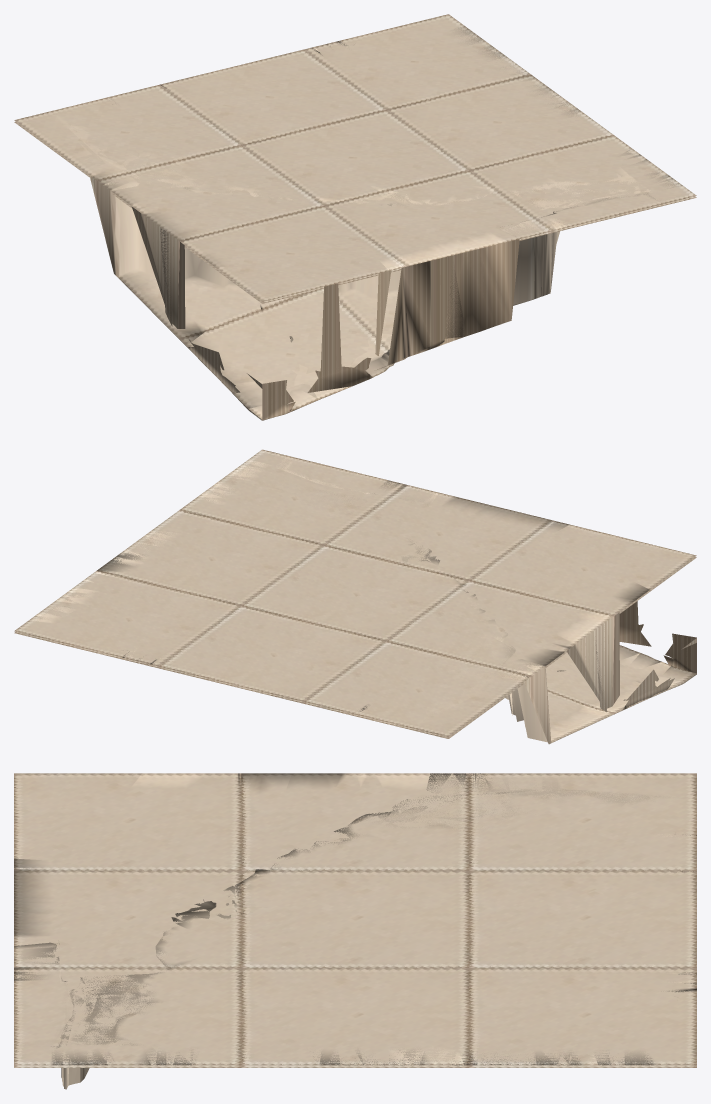
File: FloorTileBeige.locked.glb
3 renders of one model, top to bottom at view 1: azimuth 30°, elevation 25°; view 2: azimuth 150°, elevation 25°; view 3: azimuth 270°, elevation 25°, orthographic. The views are drawn at different scales.
Parts seen in each view (by area): view 1: tripo_part_11; view 2: tripo_part_11; view 3: tripo_part_11.
Boxes of the visible parts, x1,y1,x2,y2 form: tripo_part_11: (14, 14, 696, 420); tripo_part_11: (14, 449, 696, 744); tripo_part_11: (14, 773, 696, 1089).
Bounding box in the file's own units: 0.139 × 0.0363 × 0.1374.
Materials: 1 (1 with a texture image).
